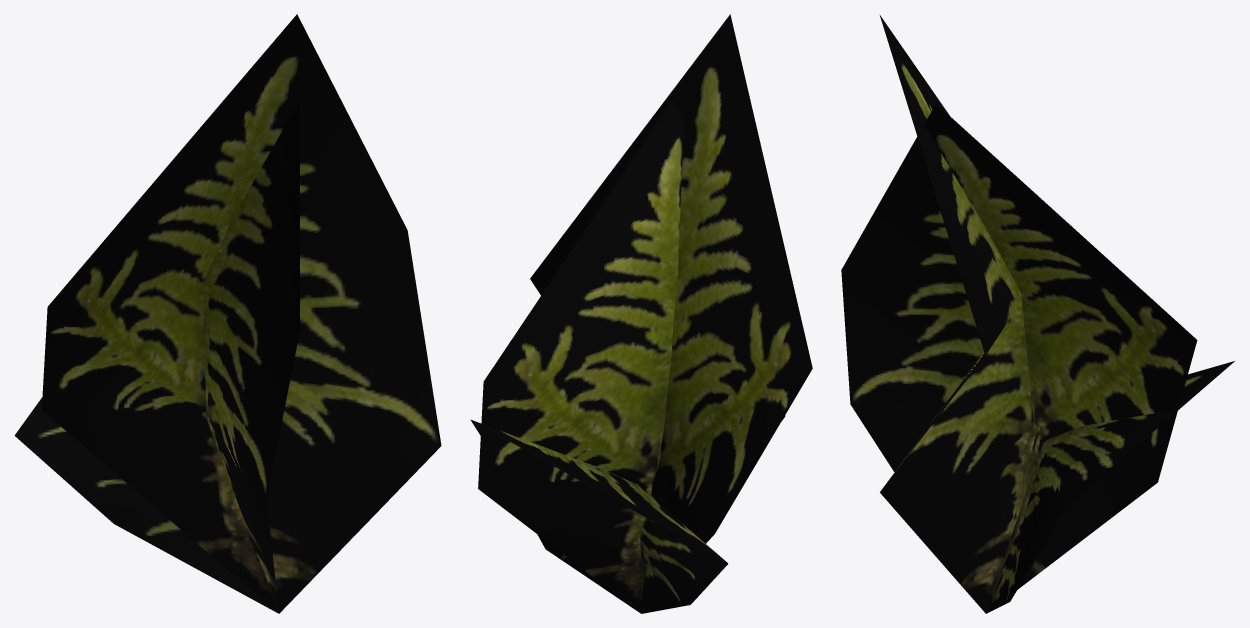
The model's file is Moss_01.fbx.
3 views of the same model, side by side, from view 1: azimuth 30°, elevation 25°; view 2: azimuth 150°, elevation 25°; view 3: azimuth 270°, elevation 25° (orthographic). The views are drawn at different scales.
Visible parts, largest first — view 1: Moss_01; view 2: Moss_01; view 3: Moss_01.
Boxes of the visible parts, x1=… form: Moss_01: x1=14, y1=14, x2=441, y2=613; Moss_01: x1=470, y1=14, x2=812, y2=613; Moss_01: x1=841, y1=15, x2=1234, y2=613.
Bounding box in the file's own units: 0.0438 × 0.08 × 0.0491.
1 material, 1 textured.
